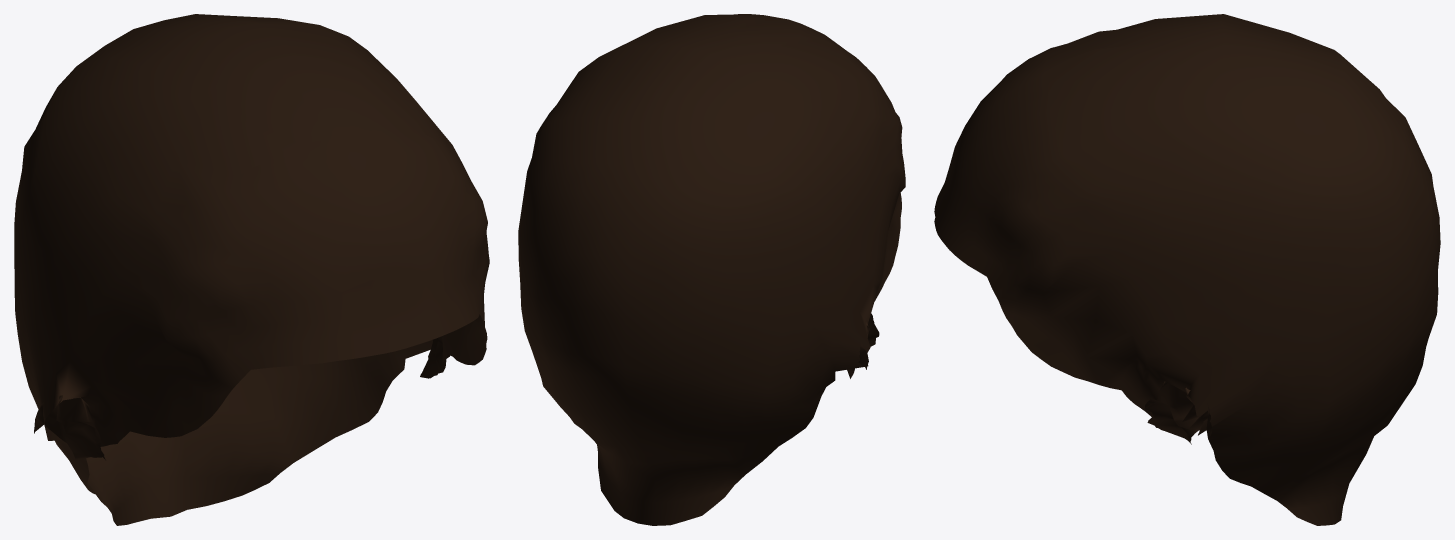
Rendered from hair_slicked.glb.
The picture shows the model from 3 angles, left to right: view 1: azimuth 30°, elevation 25°; view 2: azimuth 150°, elevation 25°; view 3: azimuth 270°, elevation 25°; orthographic projection. The views are drawn at different scales.
Parts seen in each view (by area): view 1: hair_slicked; view 2: hair_slicked; view 3: hair_slicked.
Boxes of the visible parts, left/top/right/bottom form: hair_slicked: left=14, top=14, right=489, bottom=525; hair_slicked: left=518, top=14, right=905, bottom=525; hair_slicked: left=934, top=14, right=1440, bottom=525.
Size of the model in its own units: 0.1852 by 0.2308 by 0.222.
